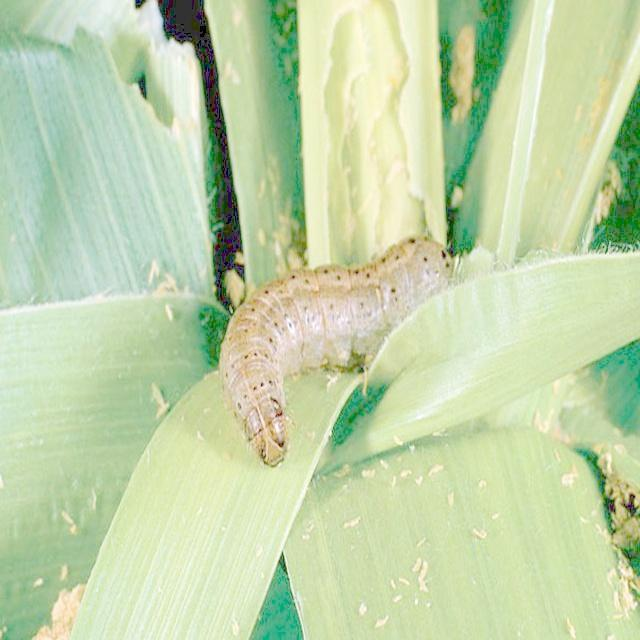gusano_cogollero: (213, 234, 467, 472)
